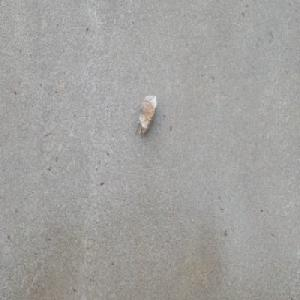Rock: (137, 94, 157, 140)
